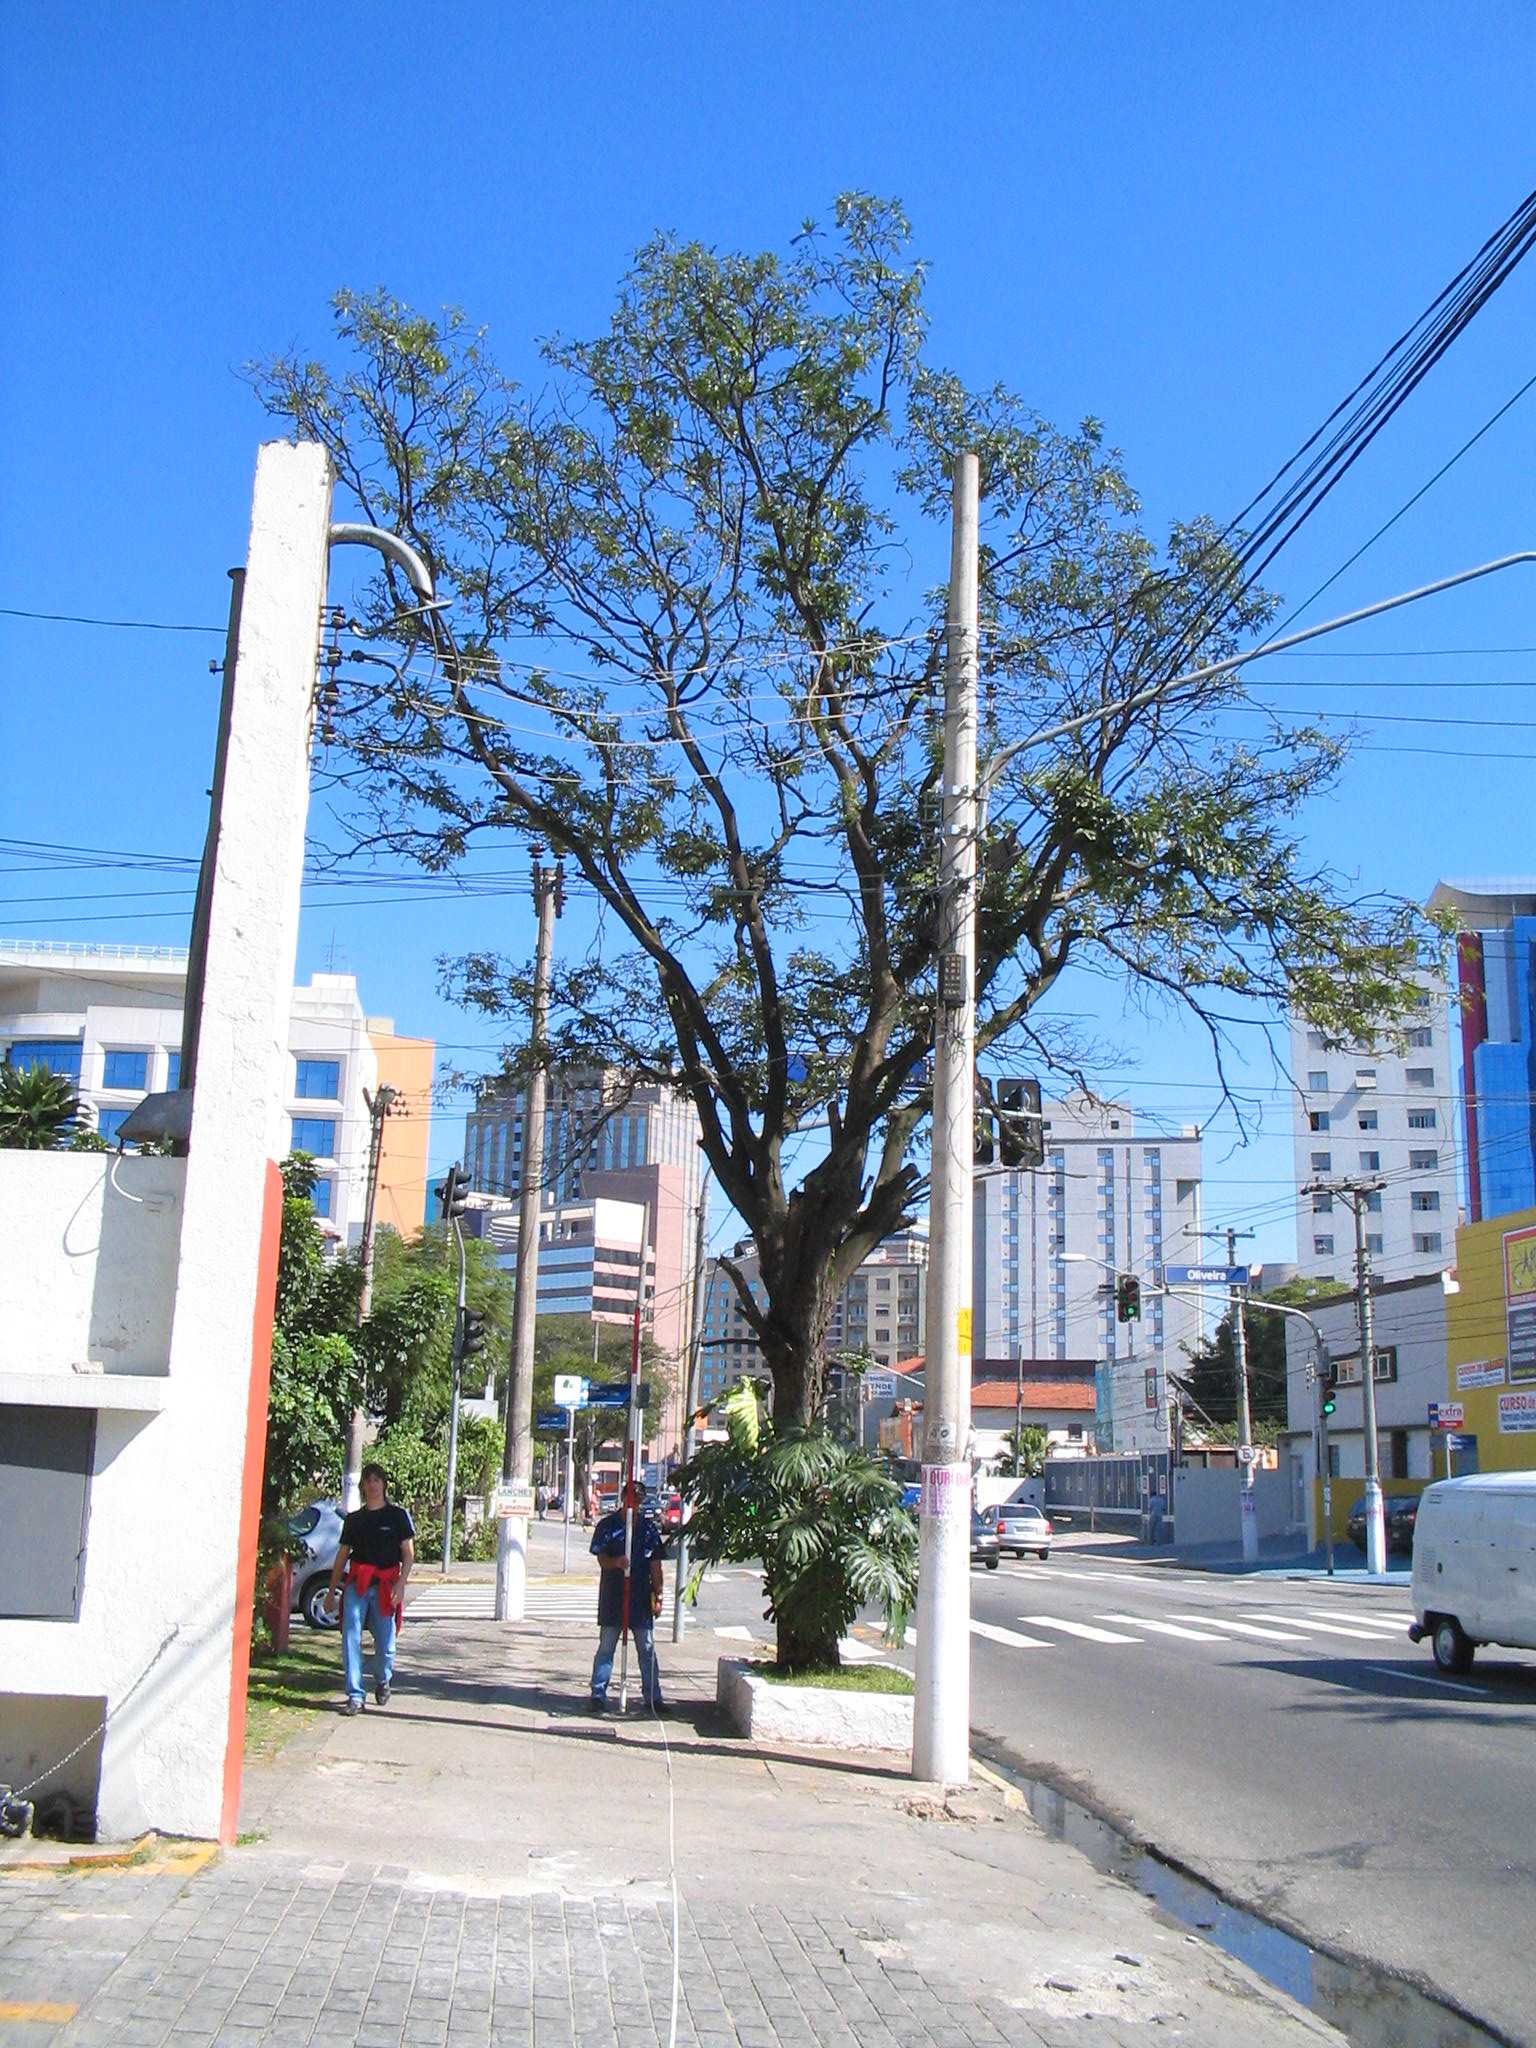crown: (239, 182, 1481, 1229)
stem: (733, 1274, 904, 1675)
stick: (602, 1303, 657, 1714)
tree: (231, 179, 1489, 1679)
